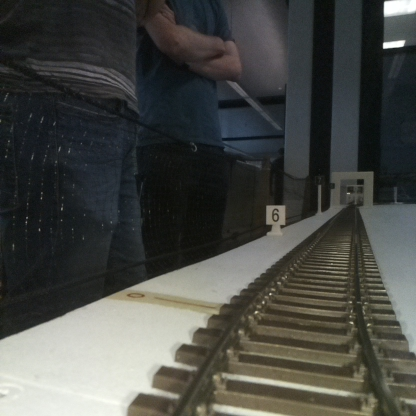white-stop-6: (266, 205, 285, 235)
